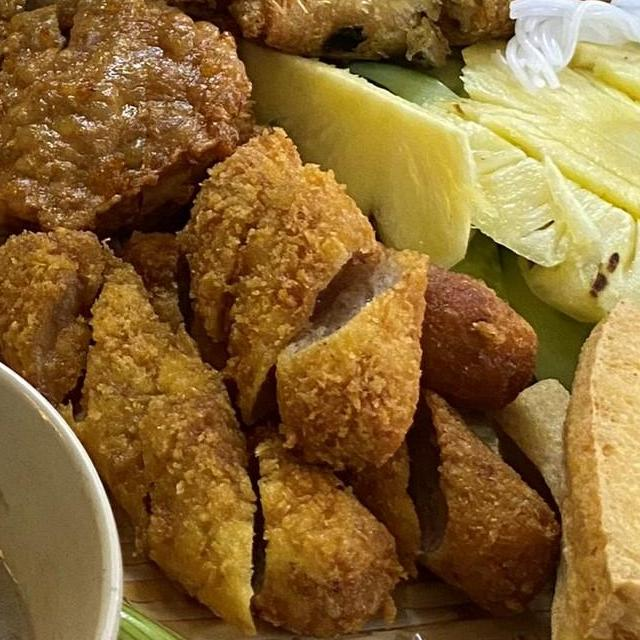cha com: (0, 219, 268, 640), (170, 114, 436, 486), (0, 0, 260, 243), (333, 379, 568, 628), (234, 414, 410, 640), (401, 259, 544, 418)
cha gio: (216, 0, 456, 76), (414, 0, 624, 52)
dau hu: (487, 371, 640, 640), (549, 292, 640, 640)
